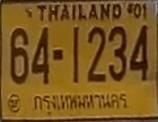1: (73, 26, 79, 84)
2: (86, 27, 105, 82)
3: (108, 25, 126, 80)
4: (31, 26, 49, 82), (129, 24, 147, 79)
6: (10, 27, 29, 83)
BKK: (31, 90, 129, 113)
